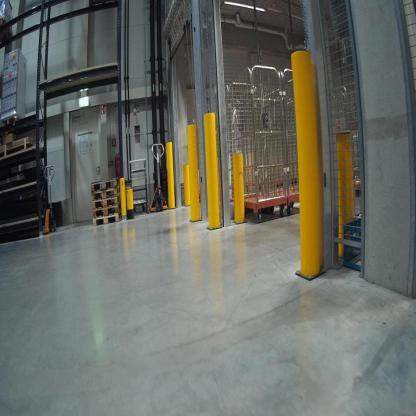pallets: (88, 177, 125, 227), (0, 134, 35, 162)
